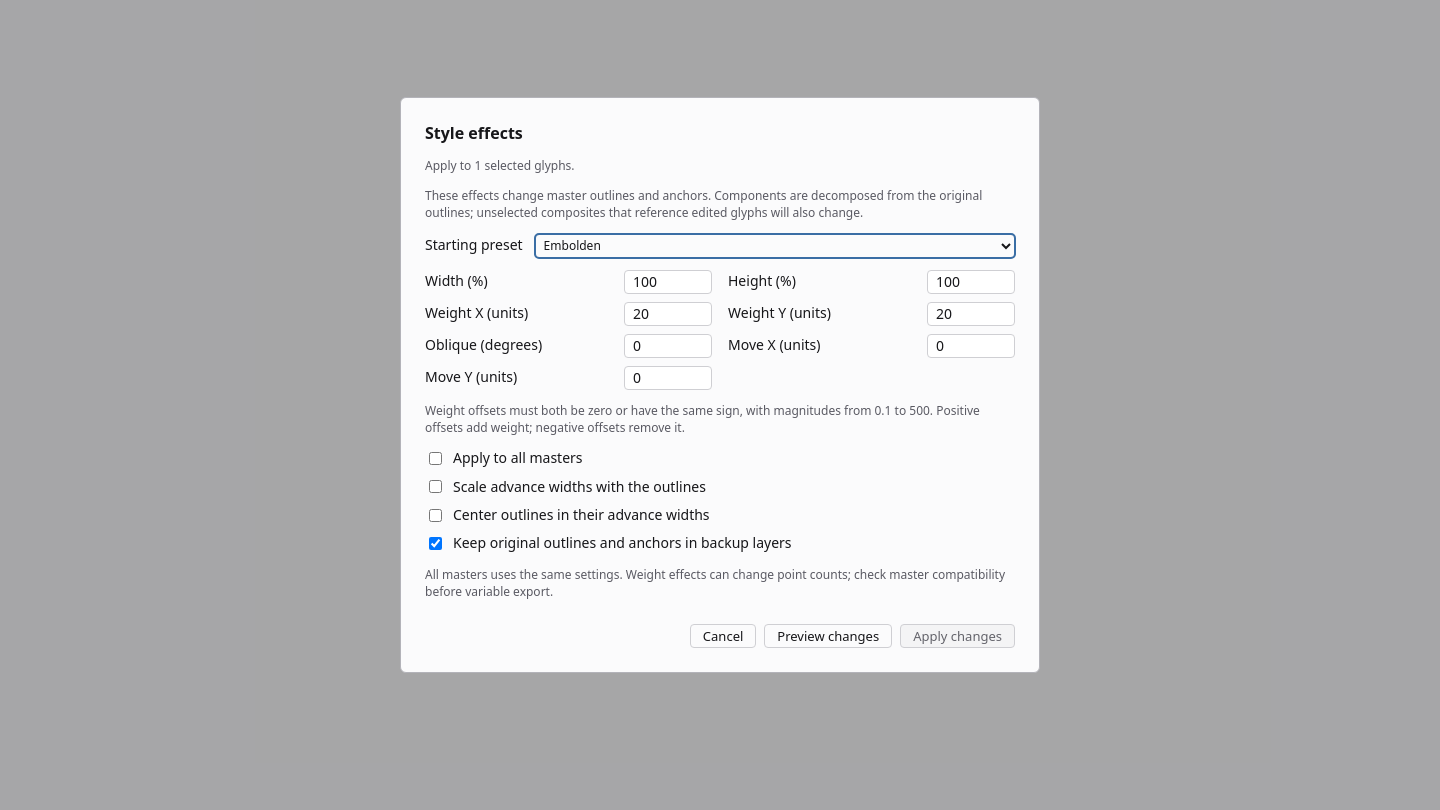
Scenario: keeps the dialog open on stale apply and requires another preview
Clear the number field labelled "Weight X (units)" at (668, 314), box [624,302,712,326]
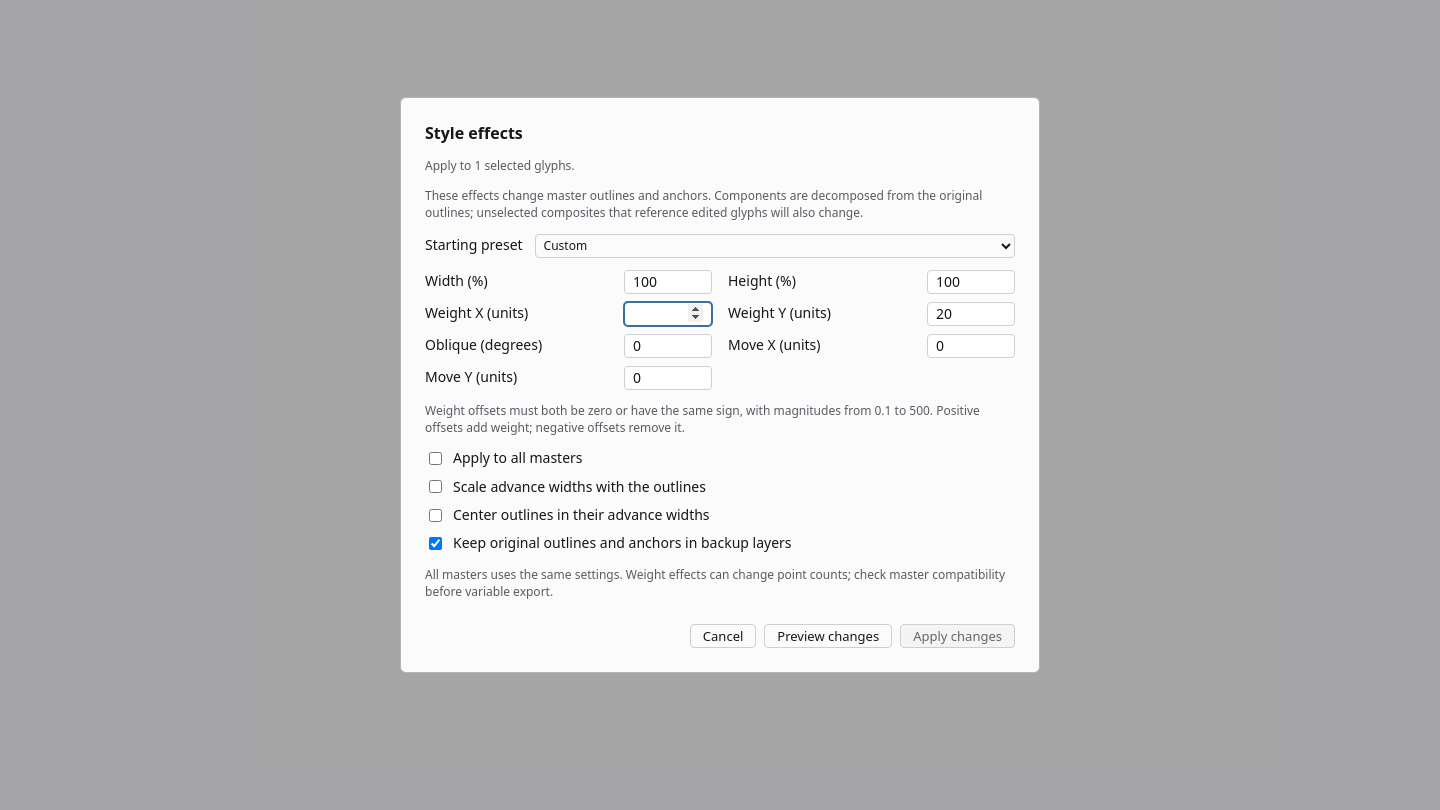
Click the button "Preview changes" at (828, 636), box [764,624,892,648]
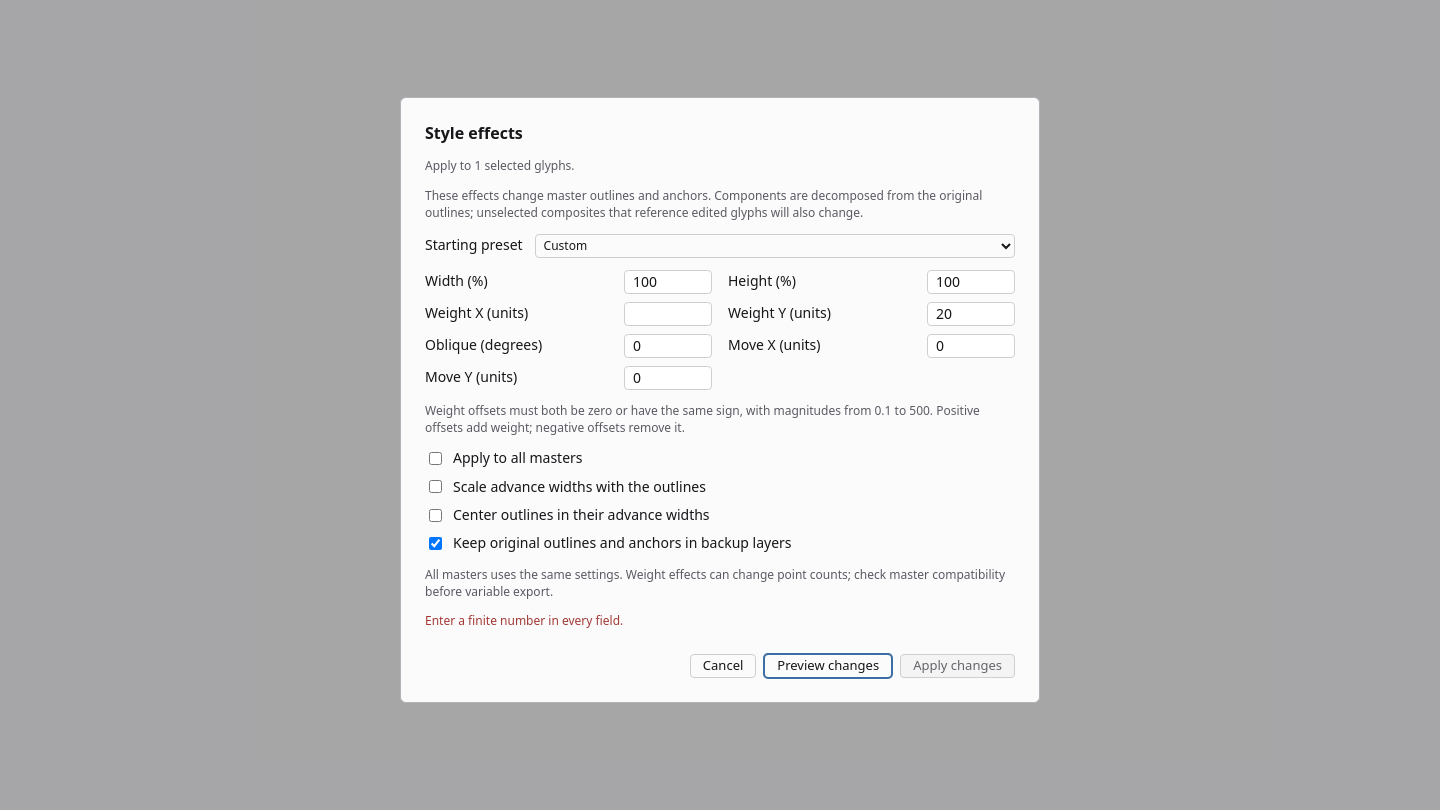
Result: the message shows "finite number" at [425,612,623,629]
Type "20" into the number field labelled "Weight X (units)" at (668, 314), box [624,302,712,326]
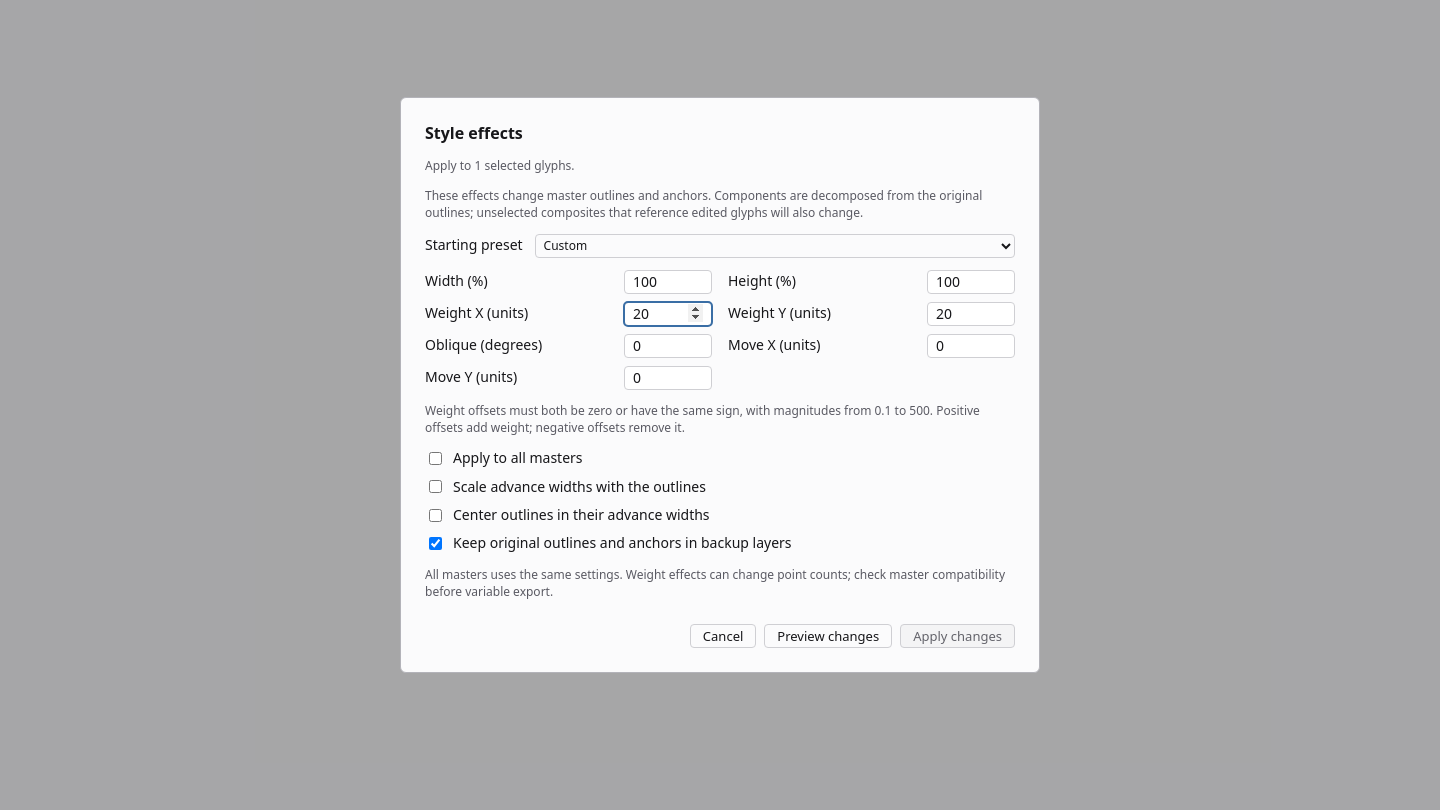
Click the button "Preview changes" at (828, 636), box [764,624,892,648]
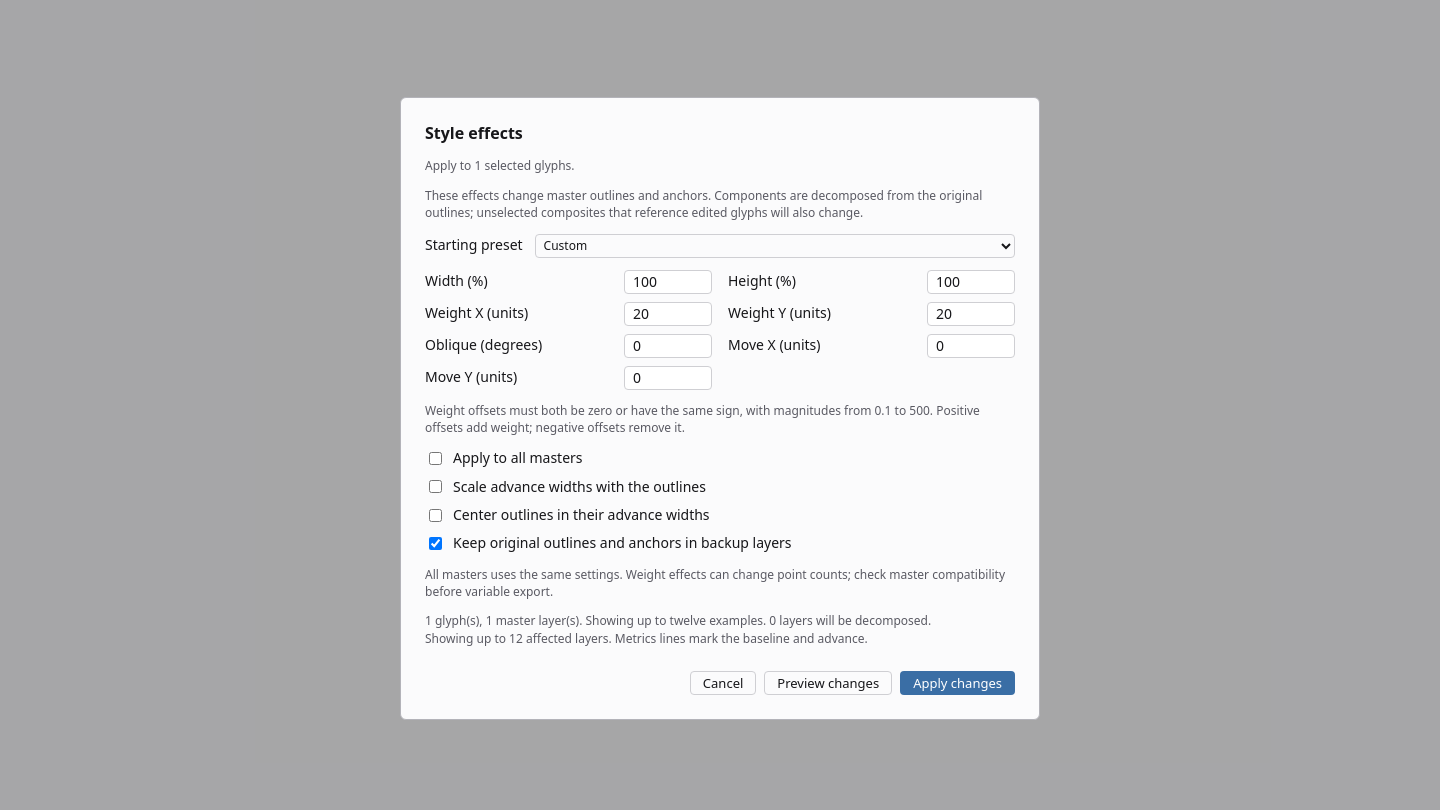
Result: the message is shown at [425,612,1015,630]
Click the button "Apply changes" at (958, 683), box [900,671,1015,695]
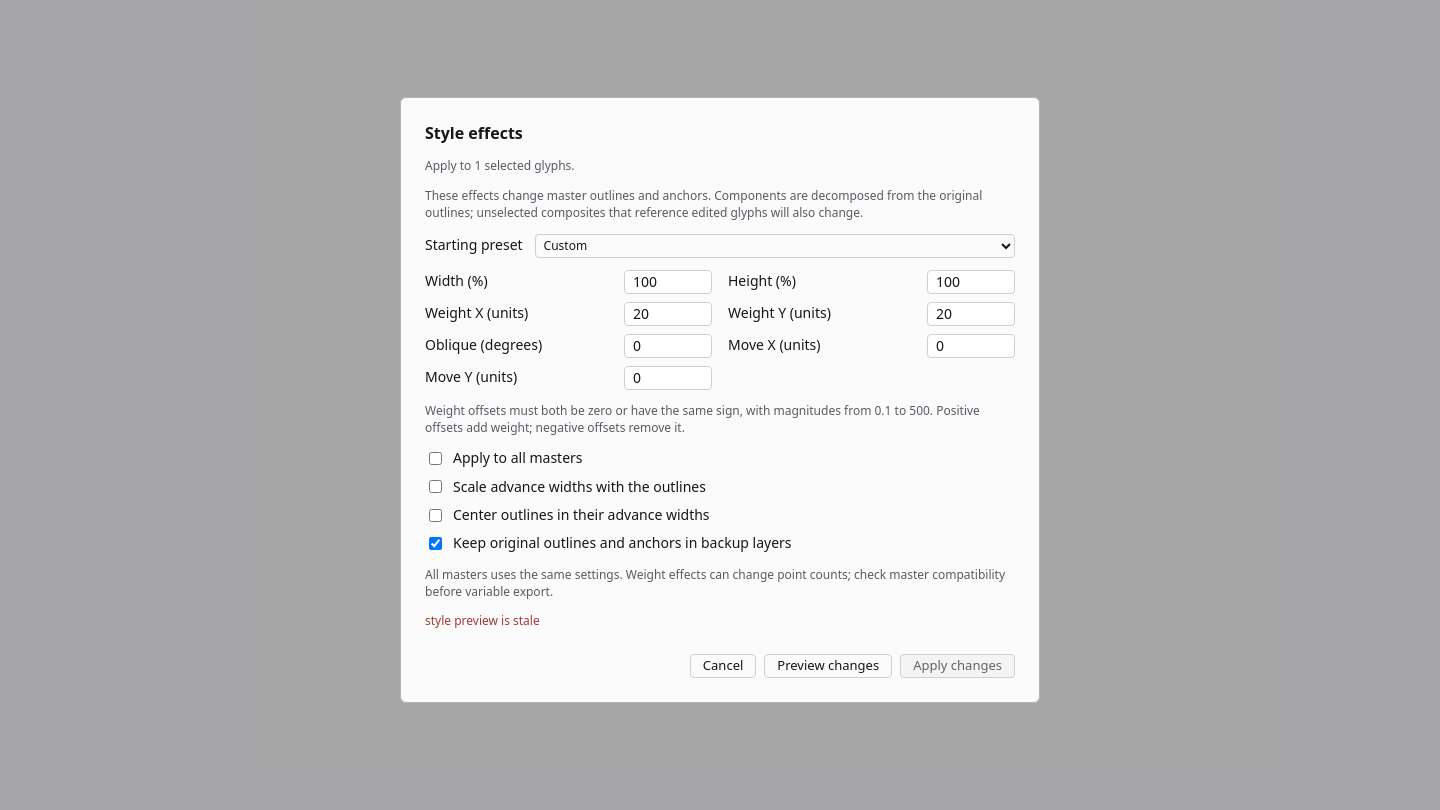
Result: the message shows "stale" at [425,612,540,629]
Result: the button "Apply changes" is disabled at [900,654,1015,678]
